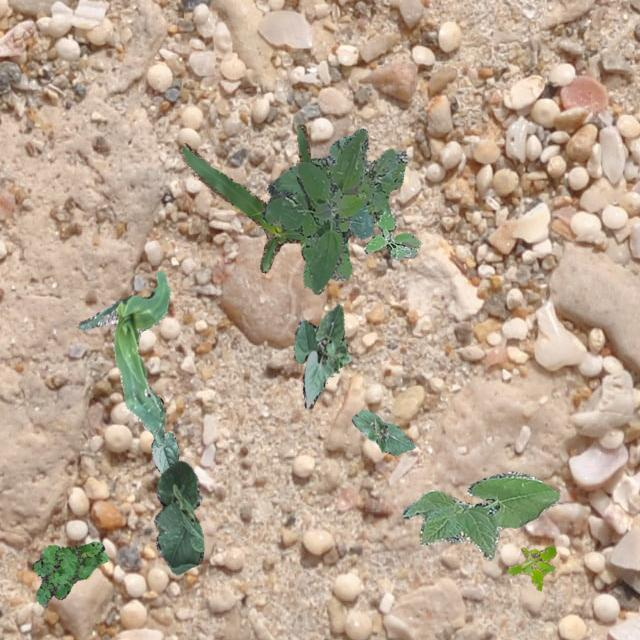crop: (178, 122, 310, 272), (78, 269, 170, 446), (402, 470, 558, 560), (292, 304, 350, 408), (152, 459, 202, 574), (351, 408, 414, 454), (150, 392, 178, 473)
weed: (266, 134, 406, 288), (260, 128, 374, 294), (32, 540, 108, 608), (362, 202, 420, 258), (506, 544, 556, 590)
